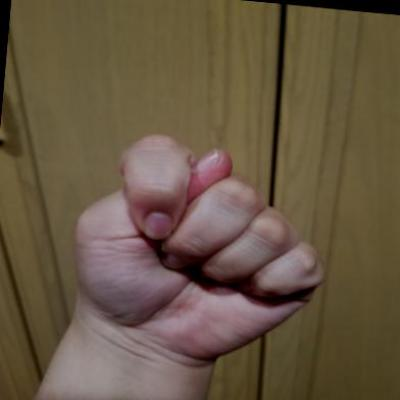hand: (55, 122, 345, 378)
